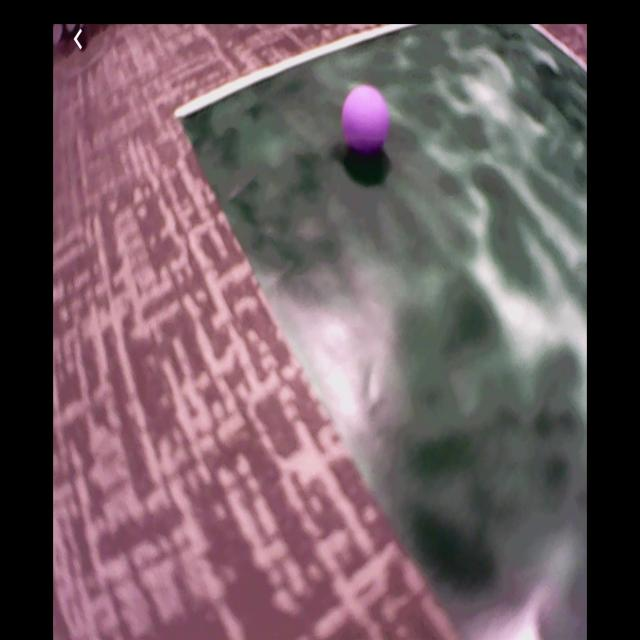ball: (345, 90, 386, 161)
